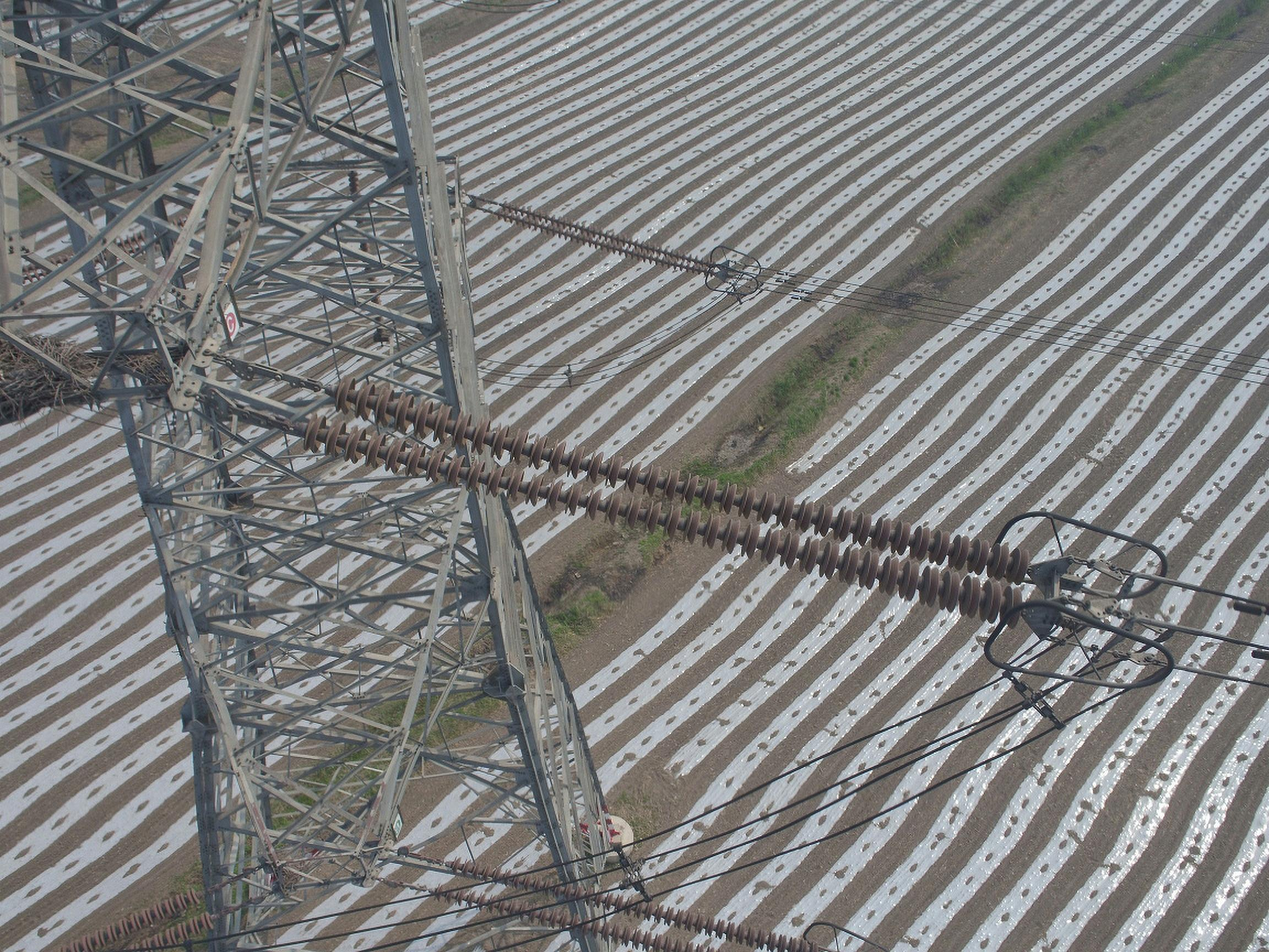insulator: (299, 373, 1034, 632), (429, 855, 838, 952), (495, 199, 718, 279), (21, 211, 191, 284), (53, 885, 216, 952), (344, 169, 386, 328)
